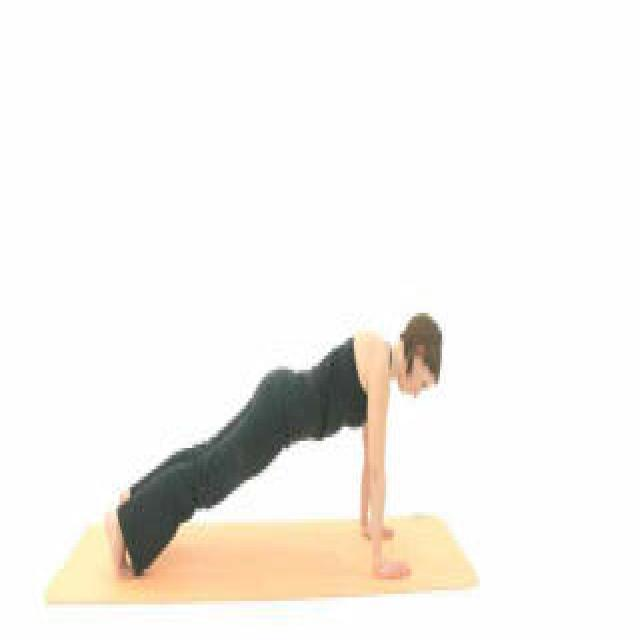yoga-pose plank: (107, 314, 445, 588)
